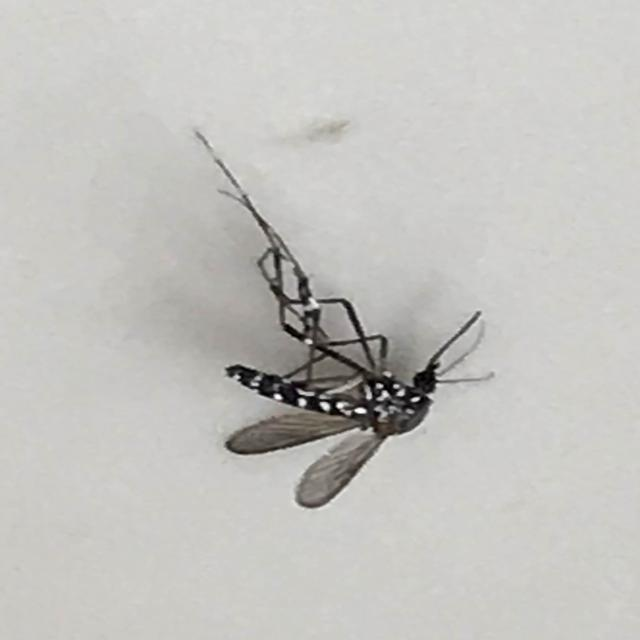albopictus: (171, 106, 516, 508)
